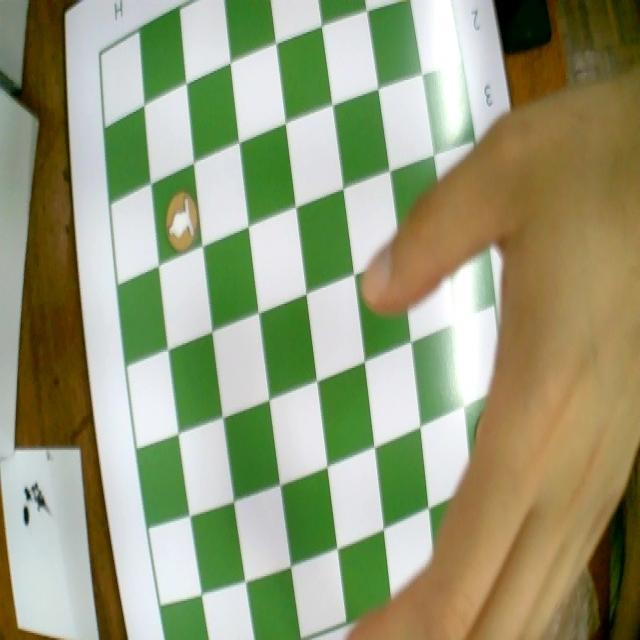chess-pieces: (158, 186, 204, 255)
